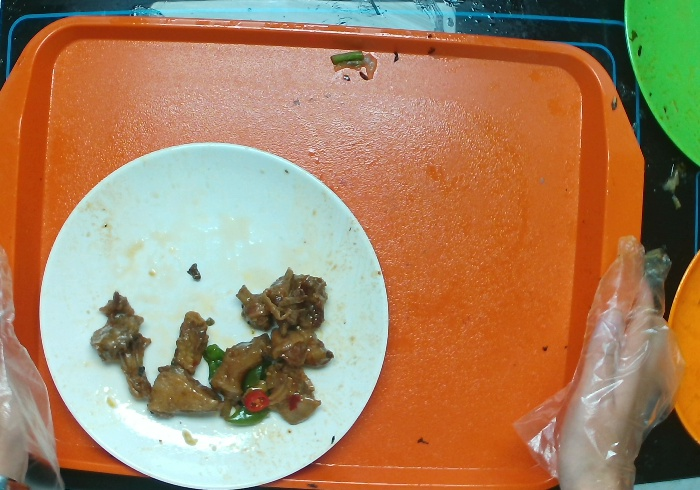HZYJPL-Bai_Se_Yuan_Pan: (24, 114, 397, 490)
